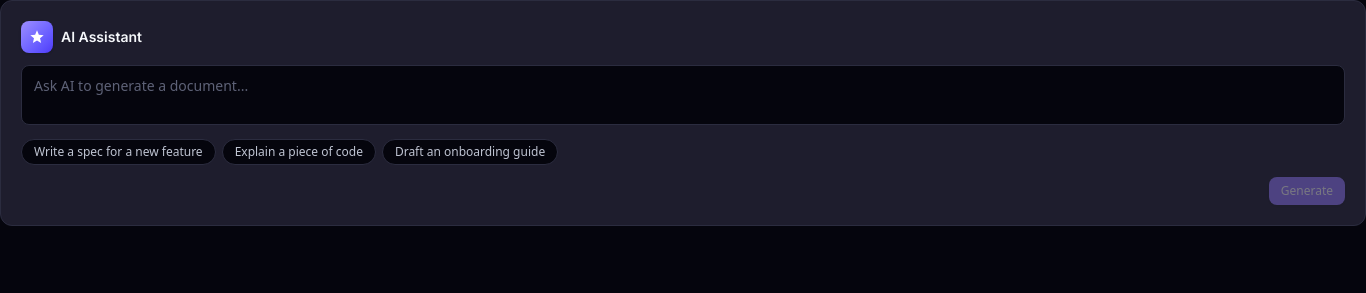
Test case: DashboardAIPrompt › generates document on submit
Type "Test prompt" into the text box with placeholder "Ask AI to generate a document..." at (683, 95), box [21, 65, 1345, 125]
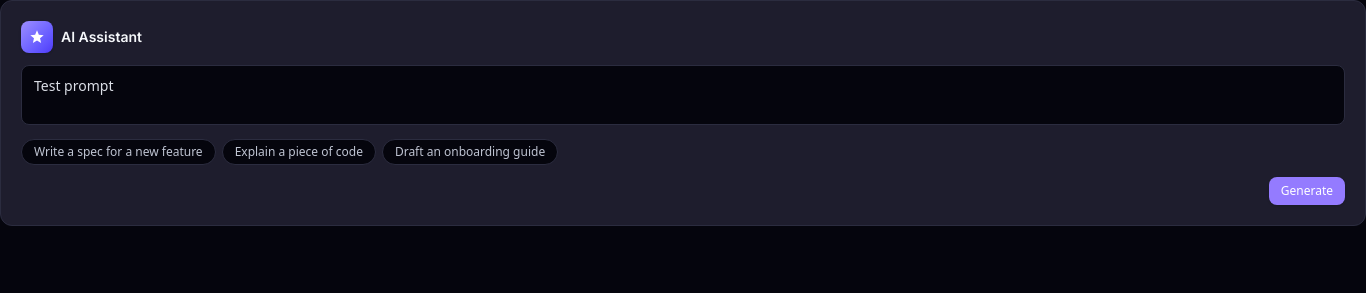
Click the button "Generate" at (1307, 191), box [1269, 177, 1345, 205]
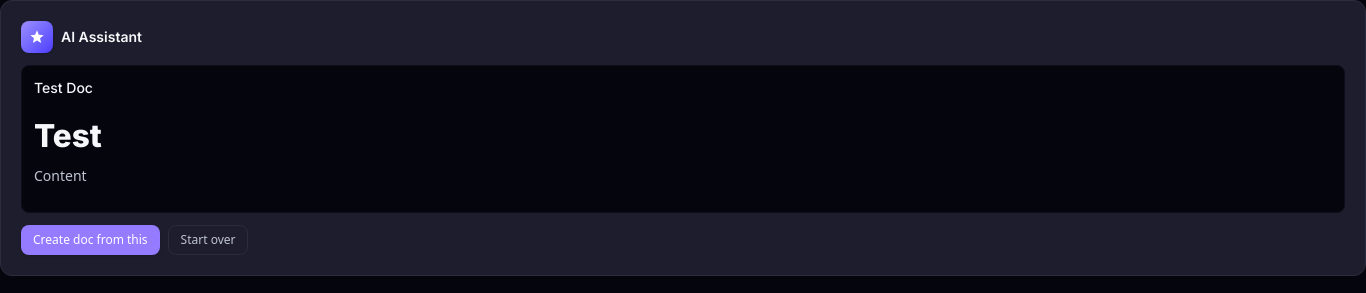
Check: the button "Create doc from this" is shown, box [21, 225, 160, 255]
